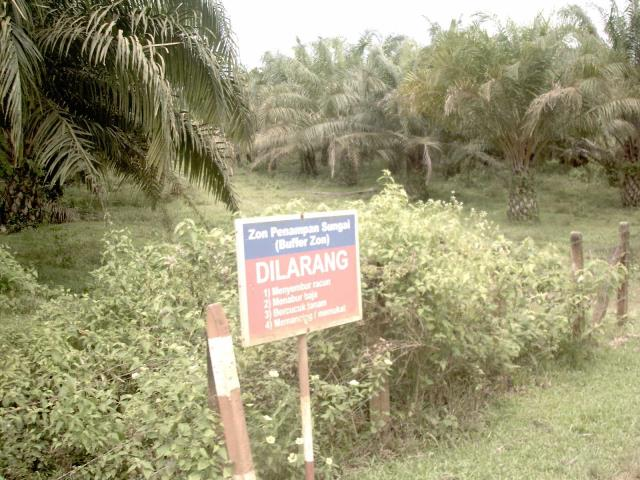ads_sign: (228, 205, 375, 354)
